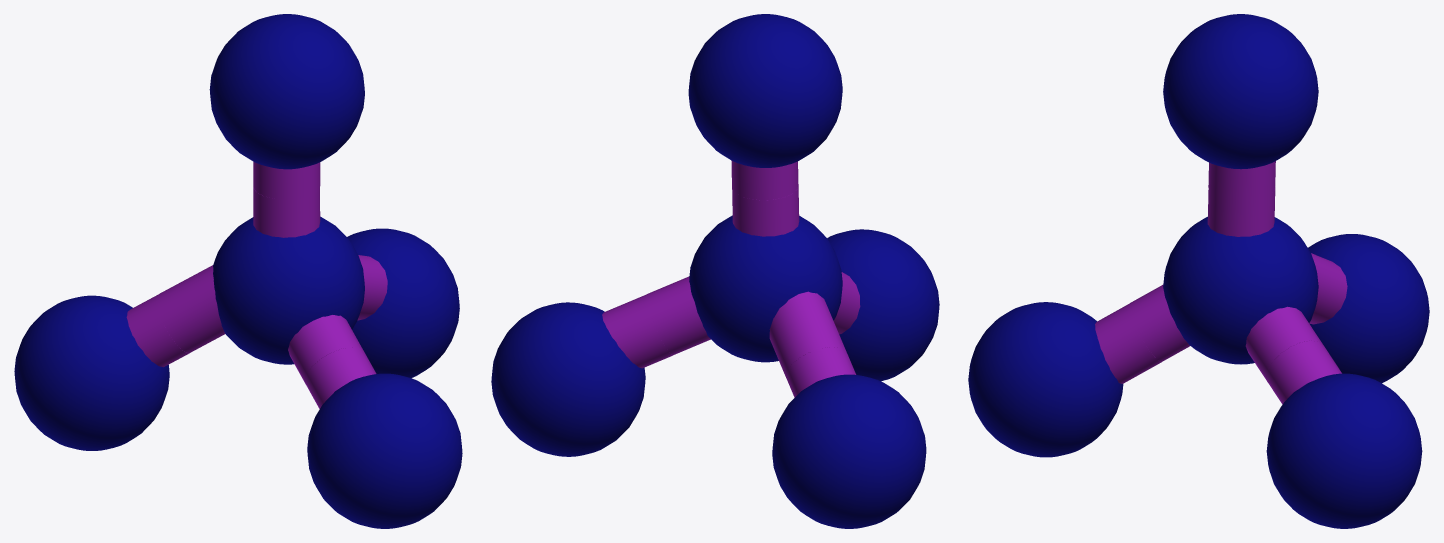
The model's file is uploads_files_2040657_Methane.obj.
3 renders of one model, left to right at view 1: azimuth 30°, elevation 25°; view 2: azimuth 150°, elevation 25°; view 3: azimuth 270°, elevation 25°, orthographic.
Parts seen in each view (by area): view 1: Sphere016, Sphere018, Sphere017, Sphere014, Sphere015, Cylinder017, Cylinder019, Cylinder013, Cylinder014, Cylinder018, Cylinder020, Cylinder016; view 2: Sphere017, Sphere018, Sphere015, Sphere014, Sphere016, Cylinder017, Cylinder015, Cylinder016, Cylinder019, Cylinder020, Cylinder018, Cylinder014; view 3: Sphere018, Sphere015, Sphere016, Sphere014, Sphere017, Cylinder014, Cylinder015, Cylinder016, Cylinder013, Cylinder019, Cylinder020, Cylinder018 (+1 smaller).
Boxes of the visible parts, x1,y1,x2,y2 form: Sphere016: [307, 373, 462, 528]; Sphere018: [209, 14, 364, 169]; Sphere017: [14, 295, 169, 450]; Sphere014: [213, 216, 364, 364]; Sphere015: [347, 228, 459, 377]; Cylinder017: [156, 265, 225, 353]; Cylinder019: [253, 188, 320, 237]; Cylinder013: [288, 315, 362, 384]; Cylinder014: [305, 347, 376, 408]; Cylinder018: [126, 295, 189, 367]; Cylinder020: [253, 161, 320, 200]; Cylinder016: [357, 255, 387, 320]; Sphere017: [772, 374, 926, 528]; Sphere018: [688, 14, 842, 167]; Sphere015: [491, 302, 645, 456]; Sphere014: [689, 215, 842, 362]; Sphere016: [827, 229, 939, 381]; Cylinder017: [769, 291, 845, 376]; Cylinder015: [646, 276, 710, 355]; Cylinder016: [602, 294, 672, 368]; Cylinder019: [732, 184, 799, 236]; Cylinder020: [731, 160, 798, 200]; Cylinder018: [785, 347, 856, 397]; Cylinder014: [833, 272, 860, 334]; Sphere018: [1163, 14, 1318, 169]; Sphere015: [1266, 373, 1422, 528]; Sphere016: [968, 302, 1123, 457]; Sphere014: [1163, 216, 1318, 364]; Sphere017: [1308, 234, 1429, 383]; Cylinder014: [1095, 304, 1161, 383]; Cylinder015: [1245, 306, 1322, 382]; Cylinder016: [1266, 340, 1341, 404]; Cylinder013: [1128, 285, 1189, 361]; Cylinder019: [1207, 187, 1275, 236]; Cylinder020: [1208, 161, 1275, 201]; Cylinder018: [1309, 255, 1347, 324].
Size of the model in its own units: 36.94 by 35.97 by 35.06.
